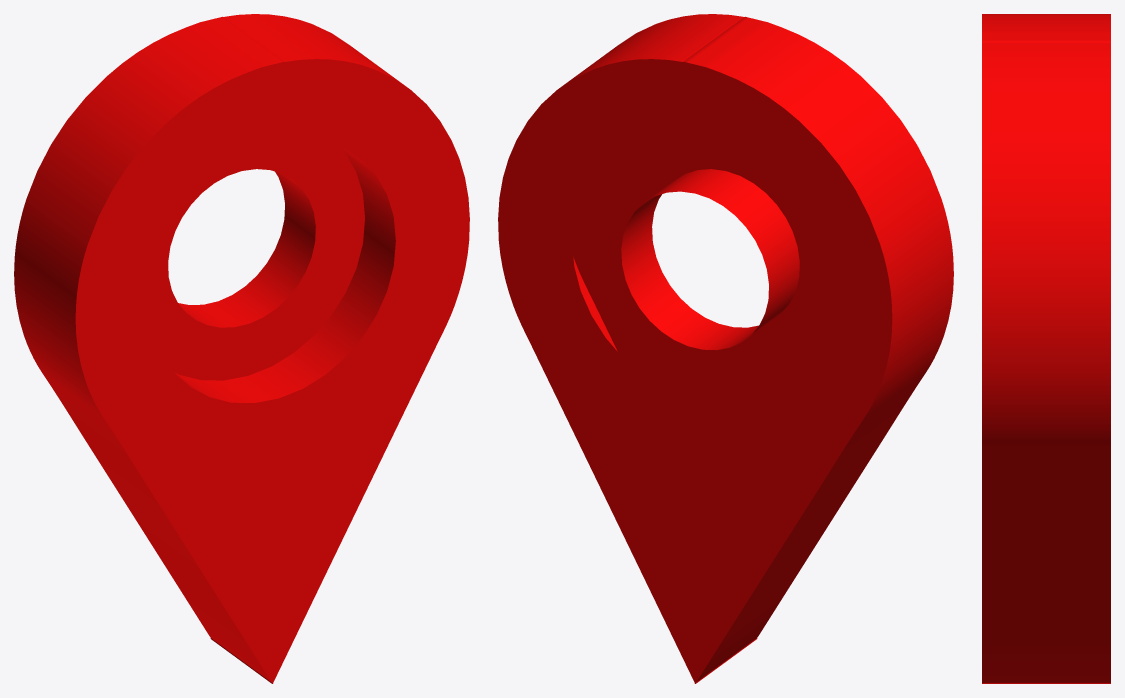
File: start.dae
The picture shows the model from 3 angles, left to right: view 1: azimuth 30°, elevation 25°; view 2: azimuth 150°, elevation 25°; view 3: azimuth 270°, elevation 25°; orthographic projection. The views are drawn at different scales.
Visible parts, largest first — view 1: group_0 (×3); view 2: group_0 (×3); view 3: group_0.
Boxes of the visible parts, bbox=[...] form: group_0 (×3): bbox=[14, 14, 469, 683]; group_0 (×3): bbox=[498, 14, 953, 683]; group_0: bbox=[982, 14, 1110, 683].
Size of the model in its own units: 79.53 by 21.5 by 119.
